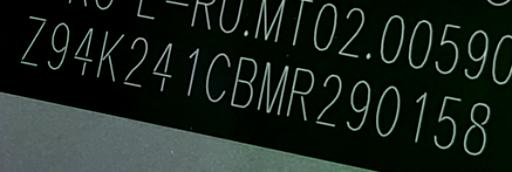letter: (255, 60, 291, 116), (460, 99, 492, 156), (94, 28, 126, 83), (284, 63, 314, 121), (433, 92, 463, 149), (314, 72, 344, 128), (18, 13, 48, 68), (229, 55, 259, 109), (374, 82, 402, 138), (121, 35, 149, 89), (344, 78, 372, 132), (204, 50, 232, 102), (46, 20, 72, 71), (150, 41, 174, 91), (72, 24, 94, 77), (412, 89, 430, 144), (184, 45, 200, 97)
